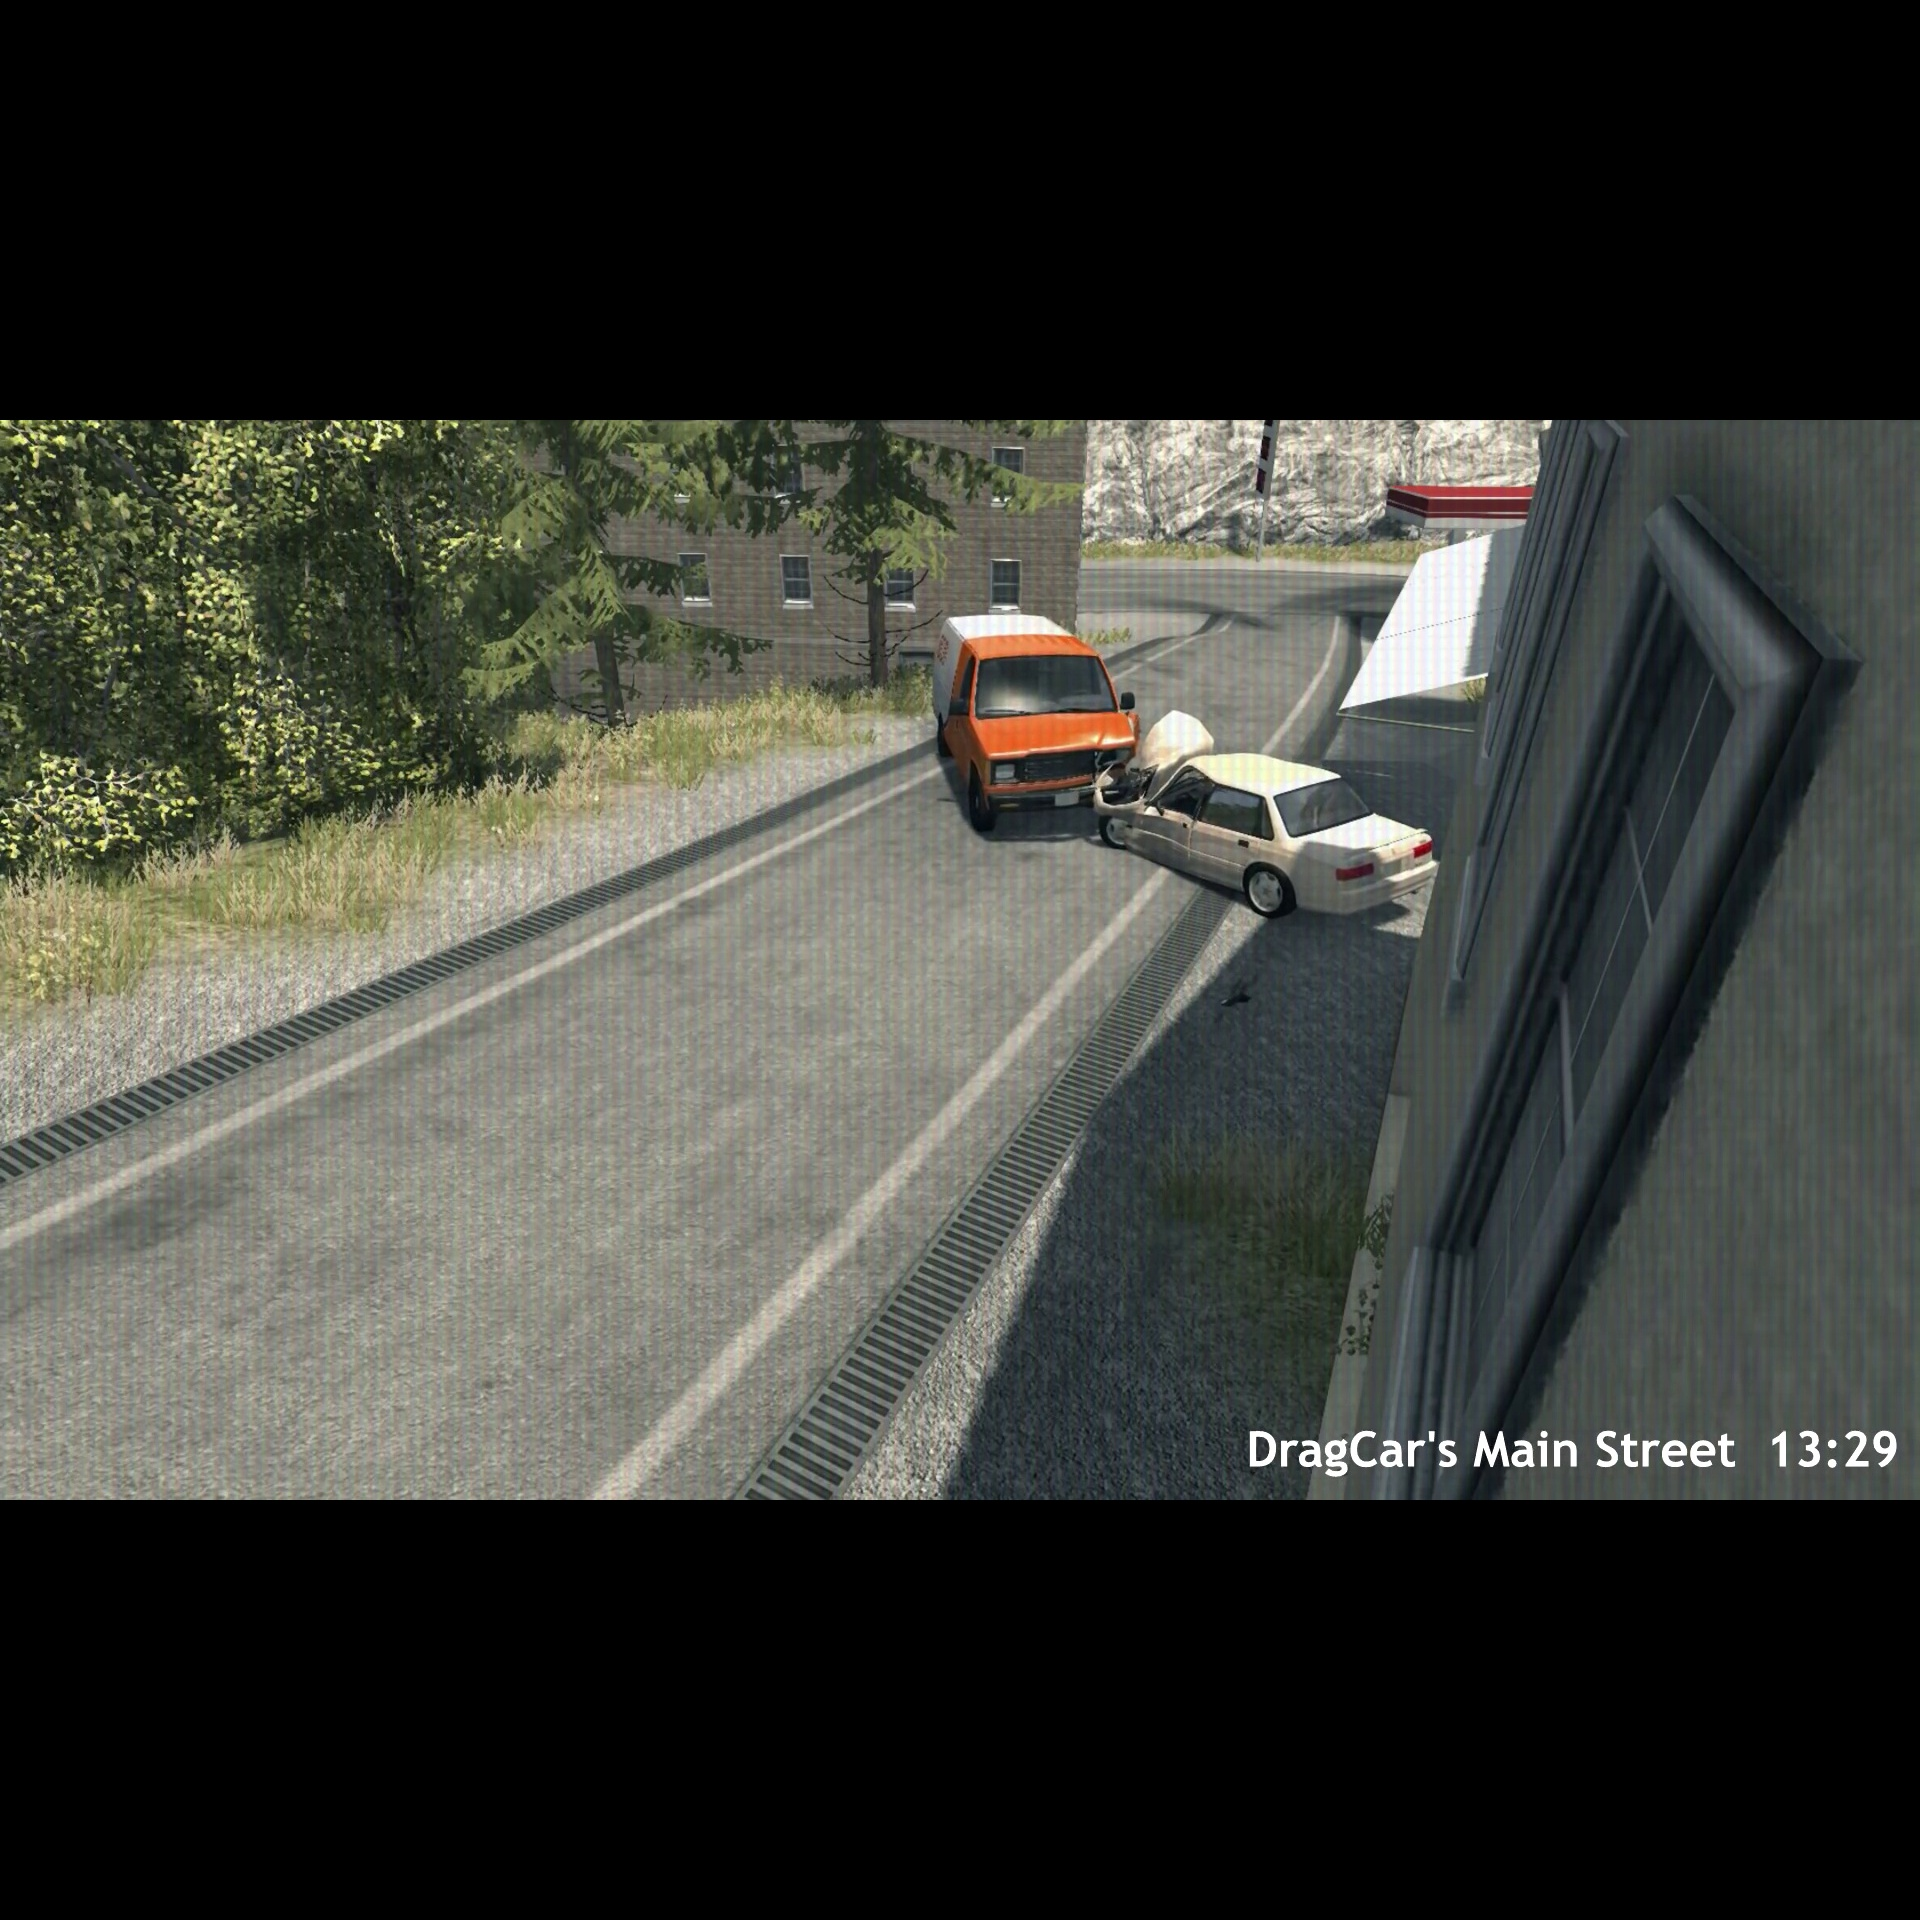vehicle: (1097, 721, 1445, 934), (928, 600, 1145, 833)
